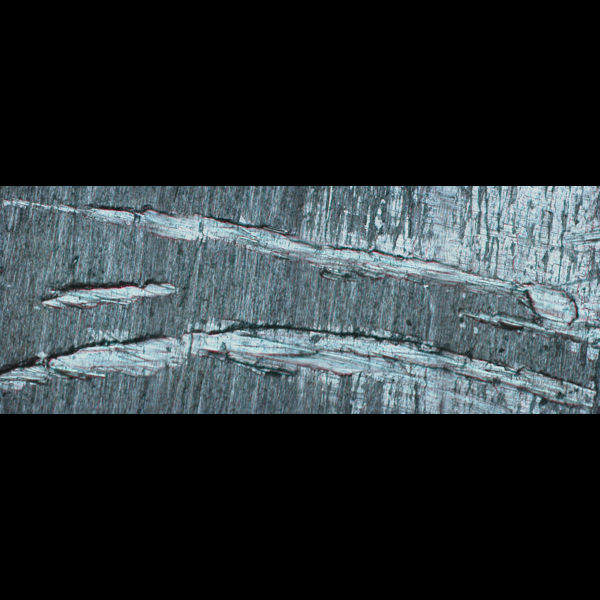d: (3, 188, 599, 359), (0, 320, 599, 413), (37, 273, 184, 316)
